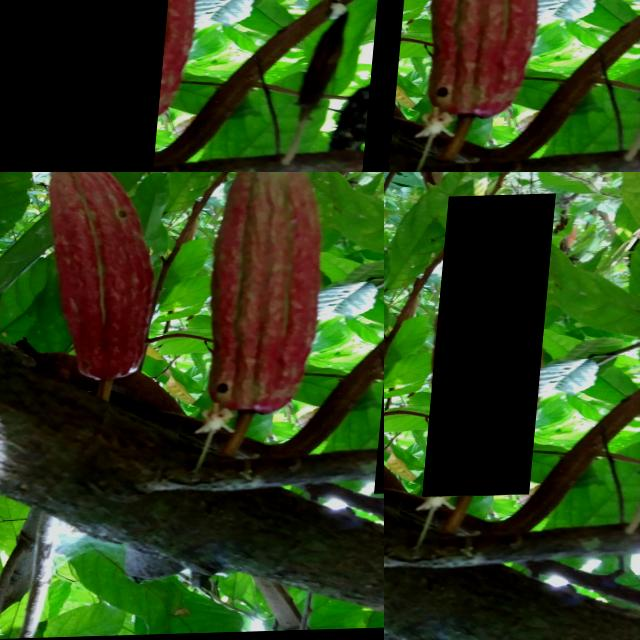Fitoftora: (430, 196, 558, 500), (0, 0, 189, 172), (0, 254, 145, 444)
